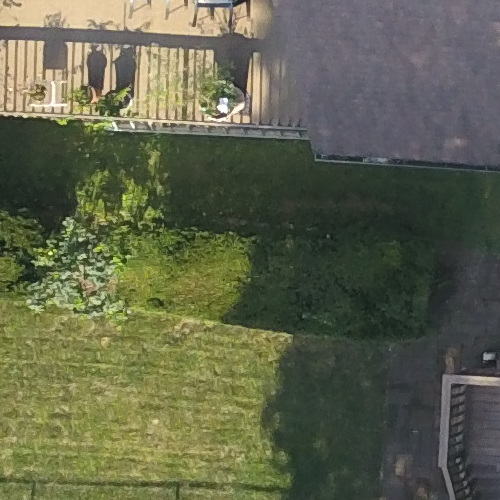flower pot: (191, 76, 246, 116), (106, 85, 138, 113), (70, 83, 102, 106), (16, 81, 48, 103)
